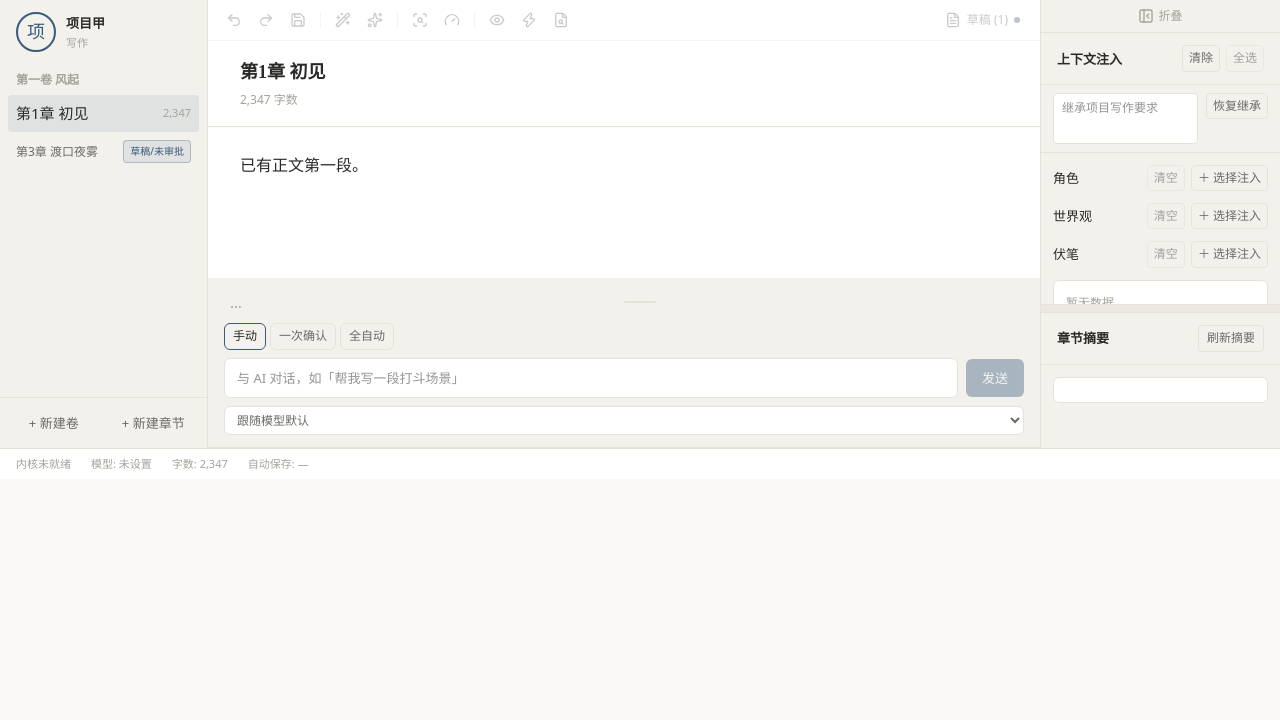
Test: 写作页 — #1377 草稿驳回链路（页面级） › 【R】弹层点驳回 → POST /agent/drafts/d1/reject（无 body）→ 关框 + 树轨重拉
The image size is (1280, 720).
Click the button with test id "drafts-approval-button".
click(982, 20)  # box top-left (937, 6), bottom-right (1028, 34)
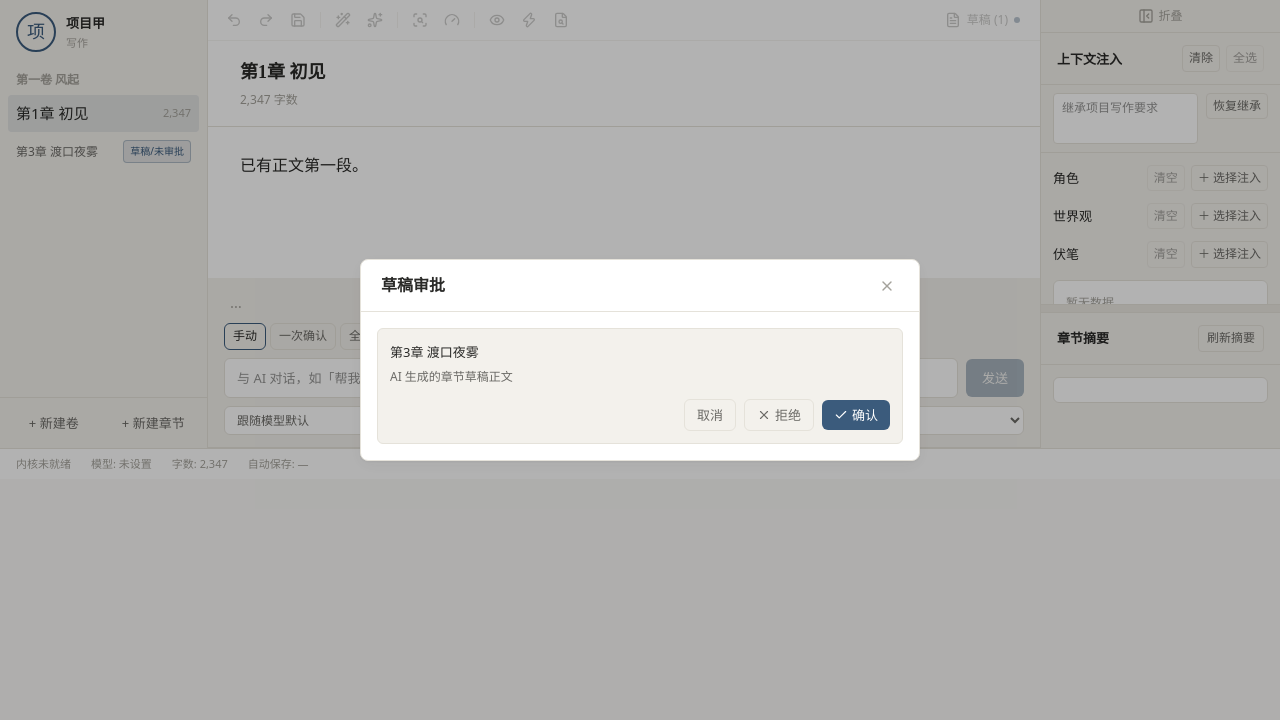
Click the button with test id "drafts-drawer-reject-d1".
click(779, 415)  # box top-left (744, 399), bottom-right (814, 431)
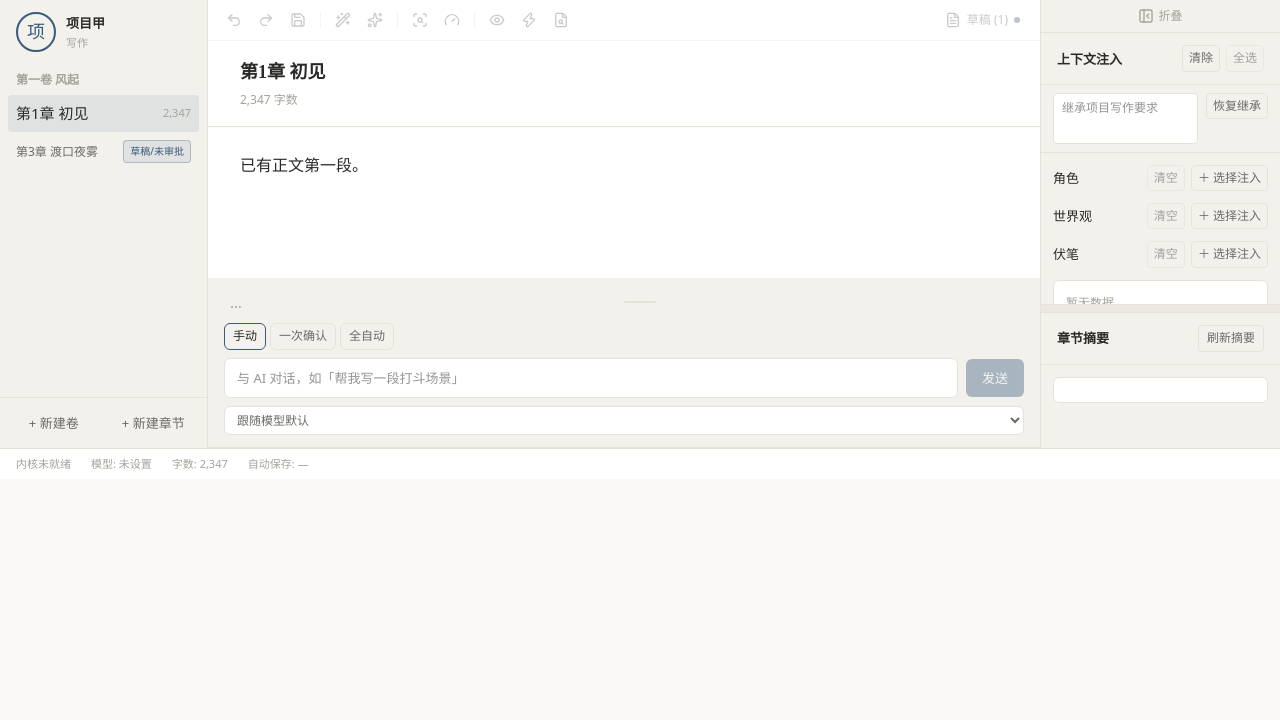
Check: the dialog with test id "drafts-drawer" is gone
